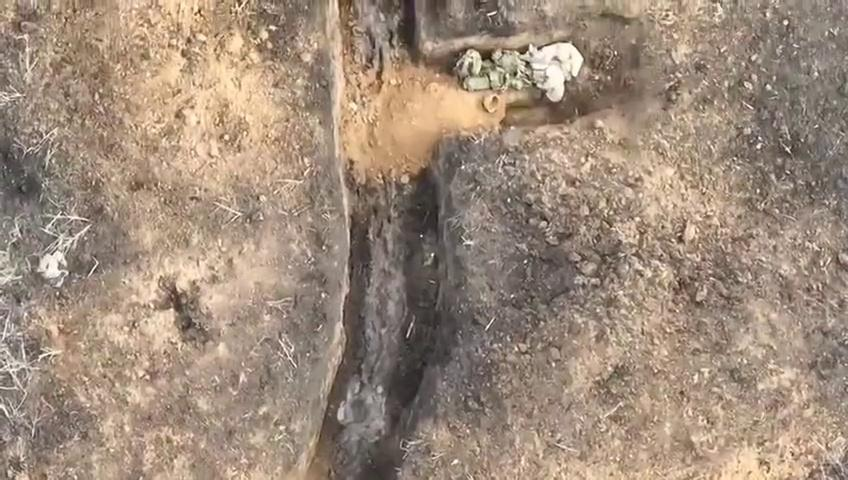person: (338, 380, 388, 466)
trench: (309, 0, 636, 480)
